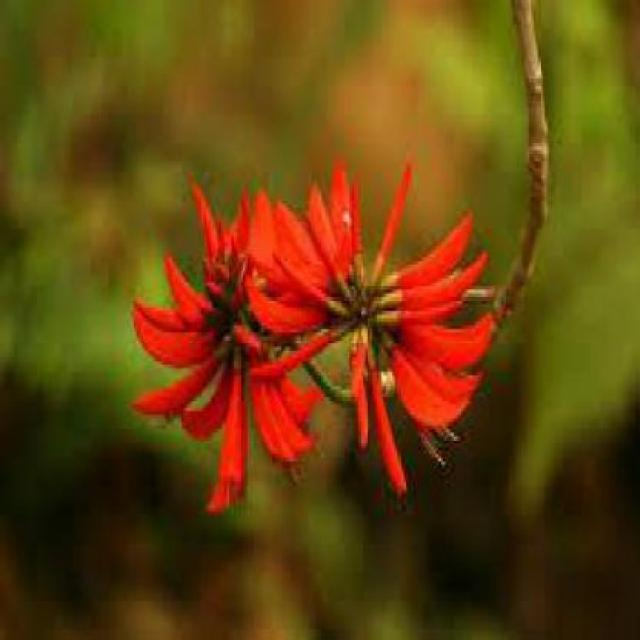flower: (259, 139, 496, 515), (125, 172, 323, 522)
